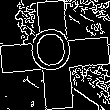O_S: (31, 28, 79, 82)
